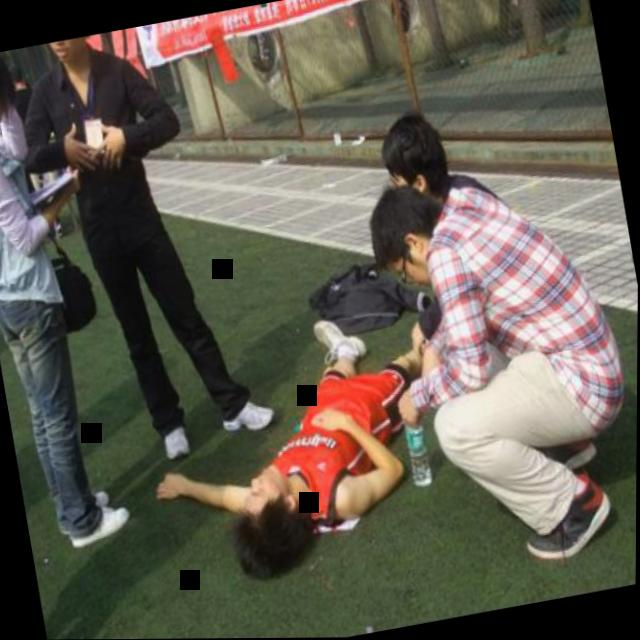Fall-Detected: (132, 296, 470, 591)
